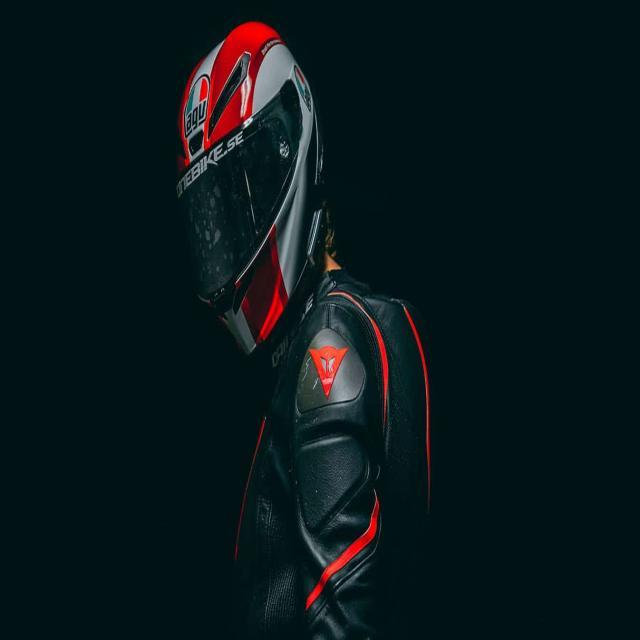Helm: (172, 14, 330, 361)
